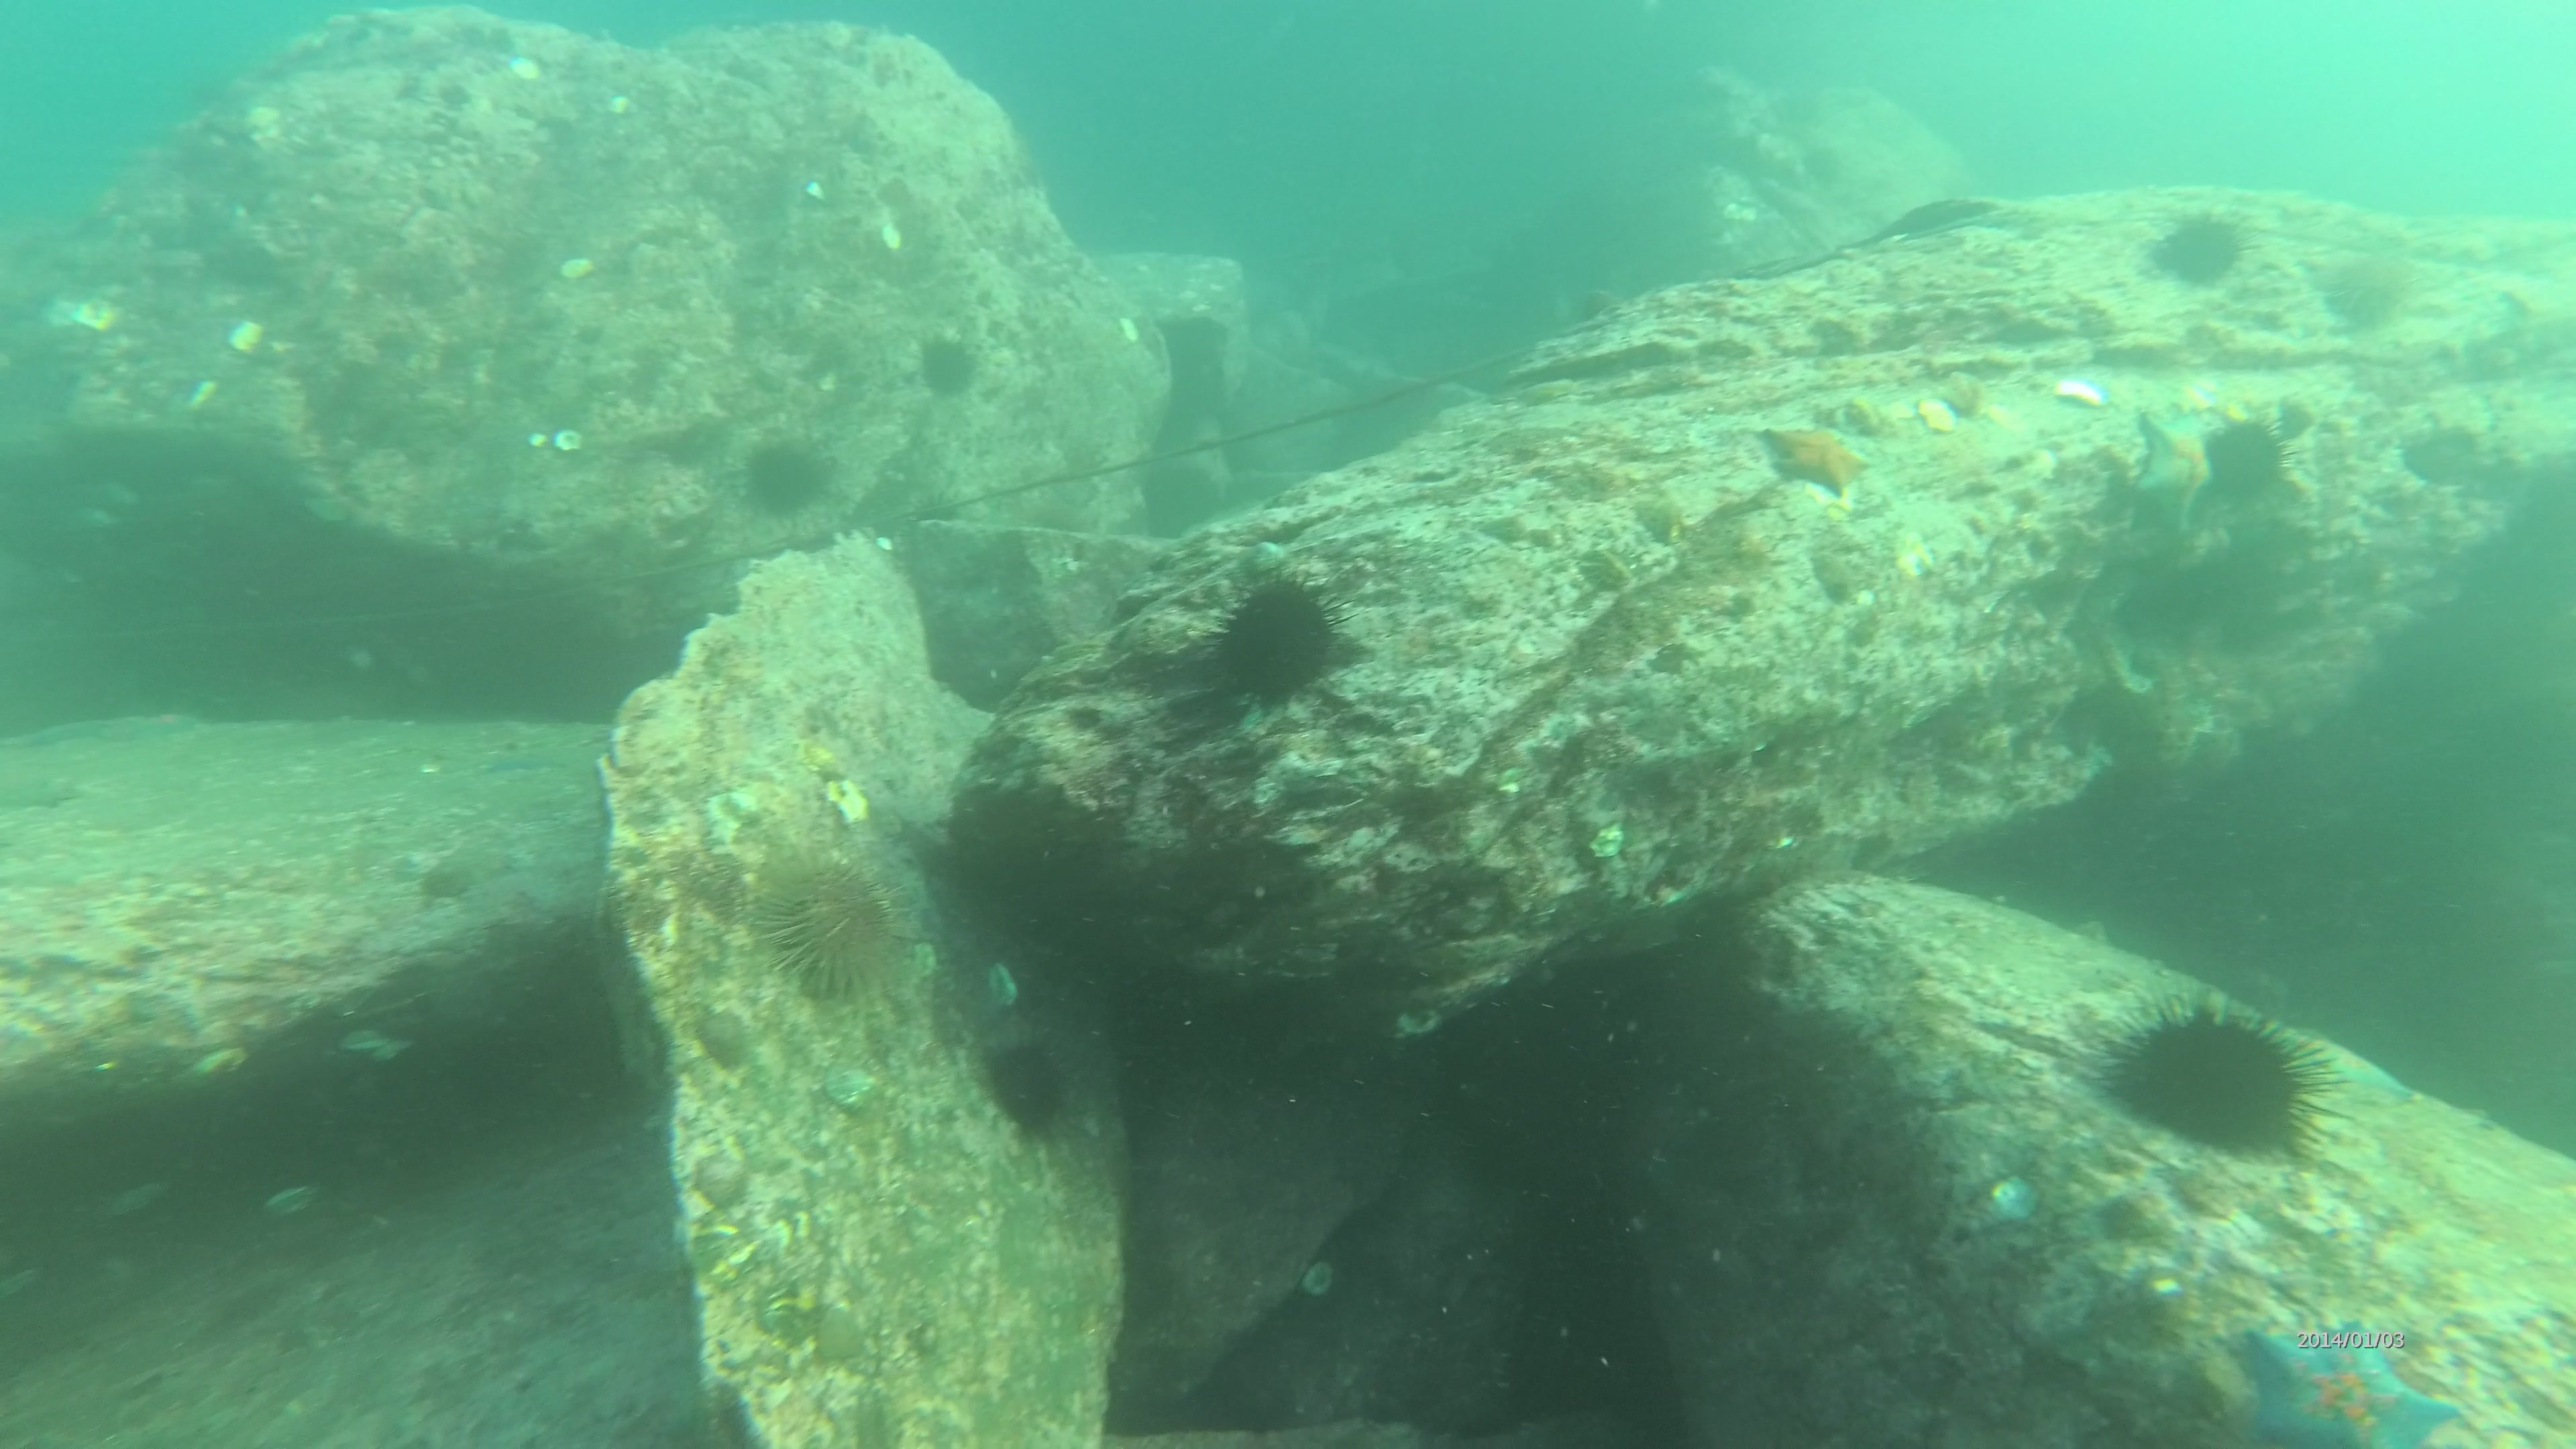echinus: (2105, 980, 2342, 1180), (754, 849, 897, 1003), (1207, 570, 1350, 701), (978, 1035, 1072, 1143), (736, 439, 830, 520), (2167, 205, 2249, 280), (2318, 244, 2403, 313), (2212, 416, 2282, 490), (918, 329, 984, 403)
starfish: (2235, 1307, 2472, 1449), (2134, 403, 2226, 527), (1767, 419, 1879, 502)
